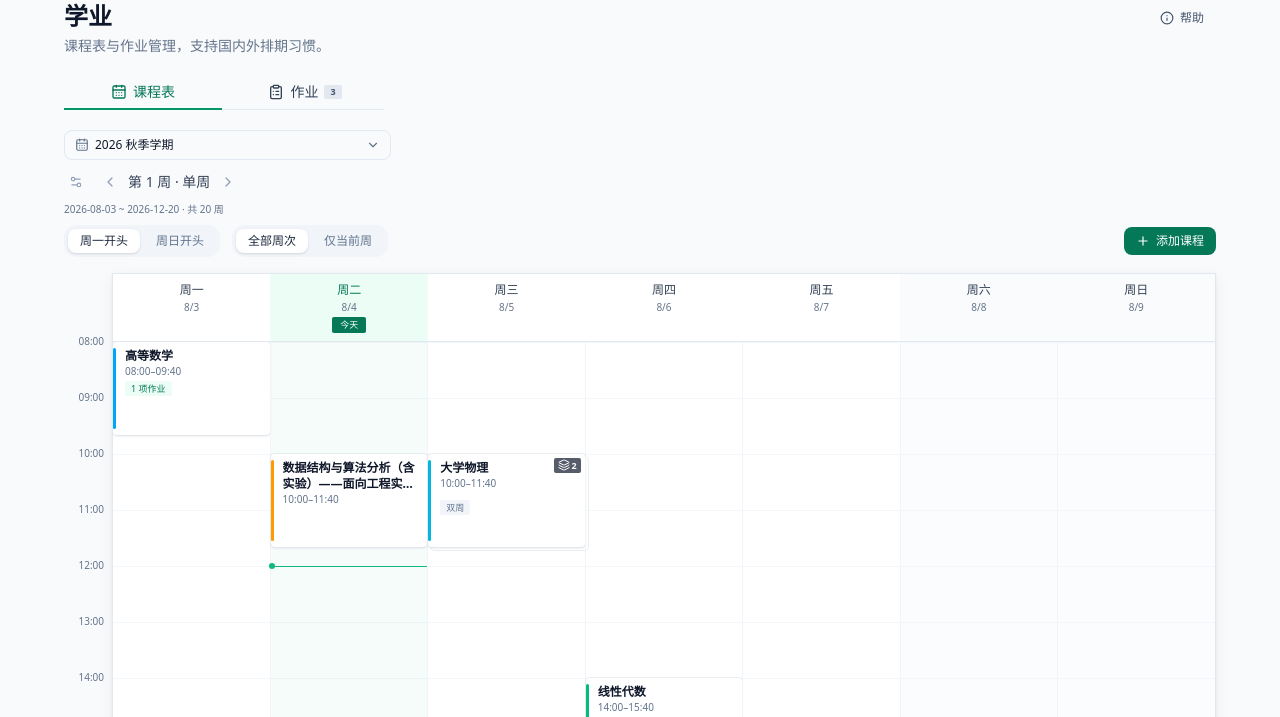
Test: StudyPage › 勾选完成需确认，确认后可归档
Click the button "作业 3": (305, 93) left=226, top=76, right=384, bottom=110
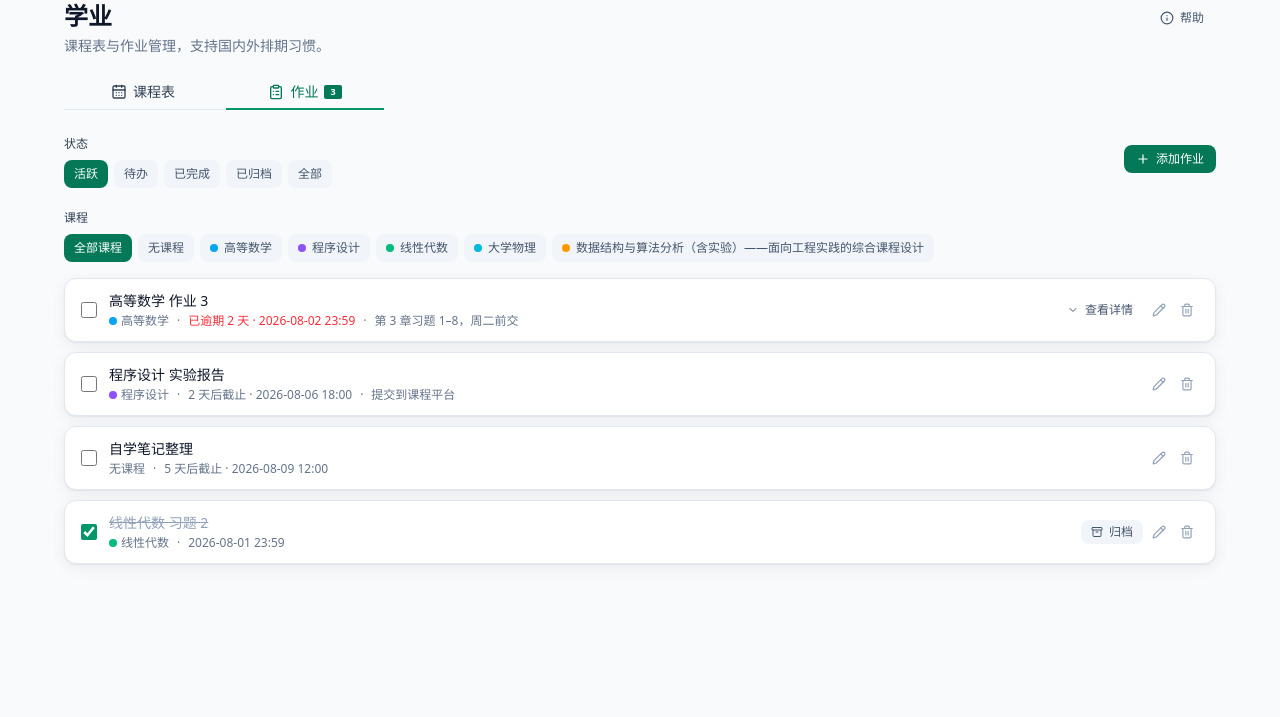
Click the checkbox named "程序设计 实验报告": (89, 384) left=81, top=376, right=97, bottom=392
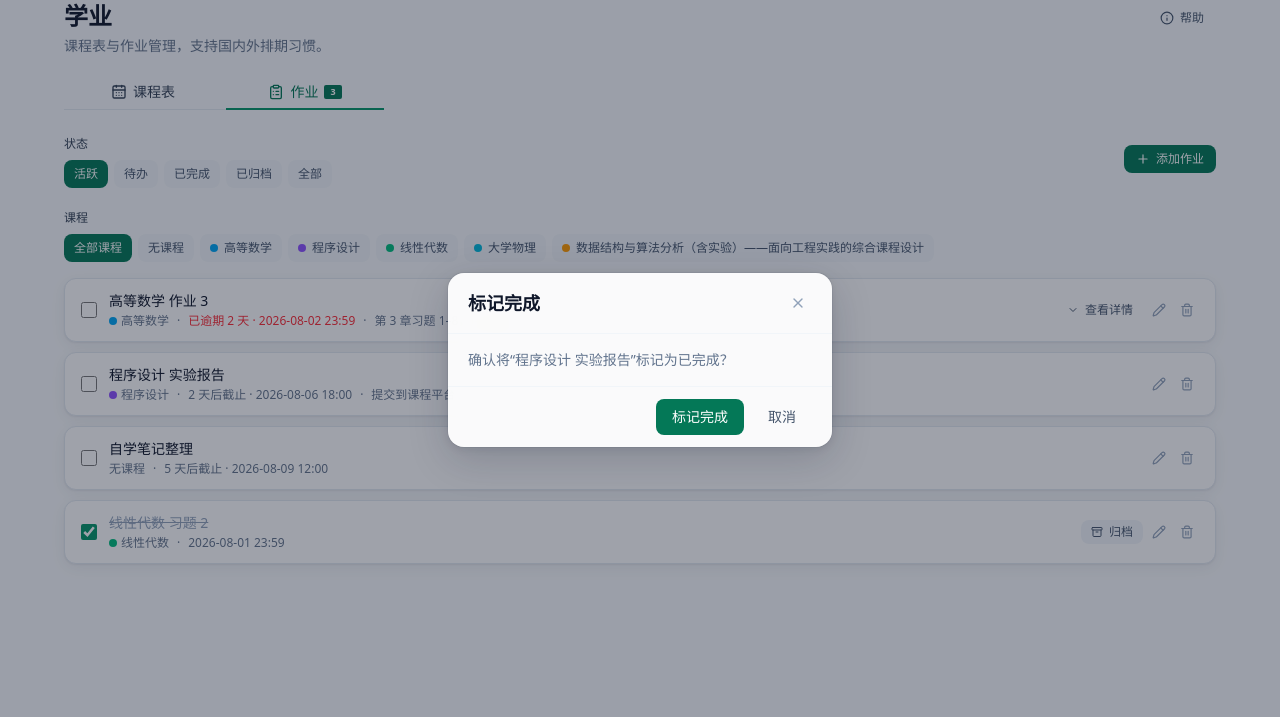
Check: the text "确认将“程序设计 实验报告”标记为已完成？" is shown, box left=468, top=350, right=734, bottom=369
Click the button "标记完成": (700, 417) left=656, top=399, right=744, bottom=435
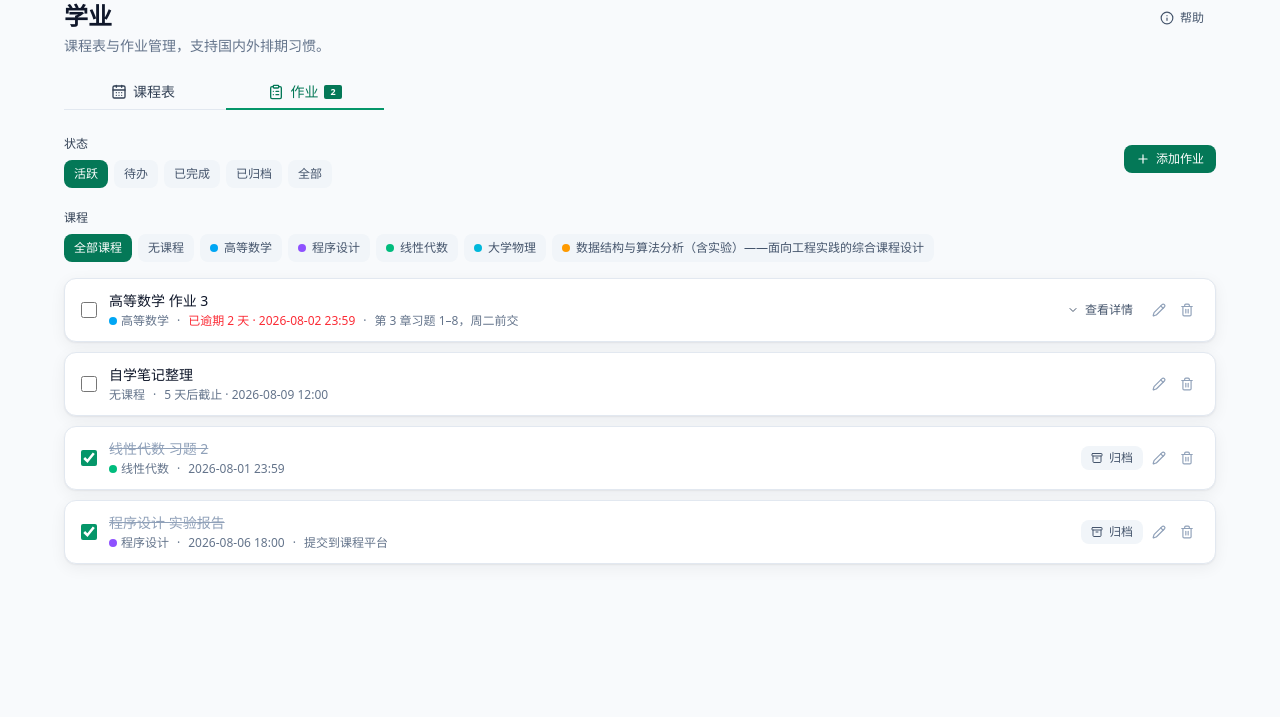
Check: the checkbox named "程序设计 实验报告" is checked, box left=81, top=524, right=97, bottom=540
Click the button "归档" in the row of "程序设计 实验报告": (1112, 532) left=1081, top=520, right=1143, bottom=544
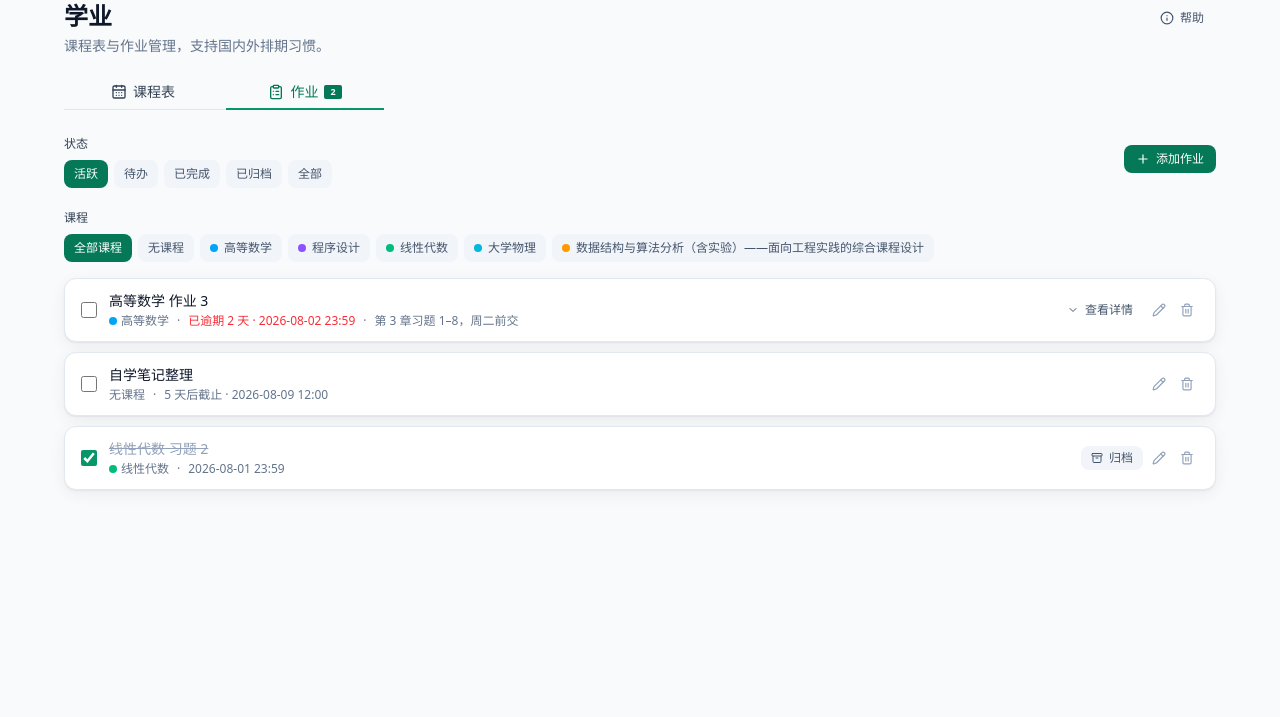
Check: the text "程序设计 实验报告" is gone
Click the button "已归档": (254, 174) left=226, top=160, right=282, bottom=188
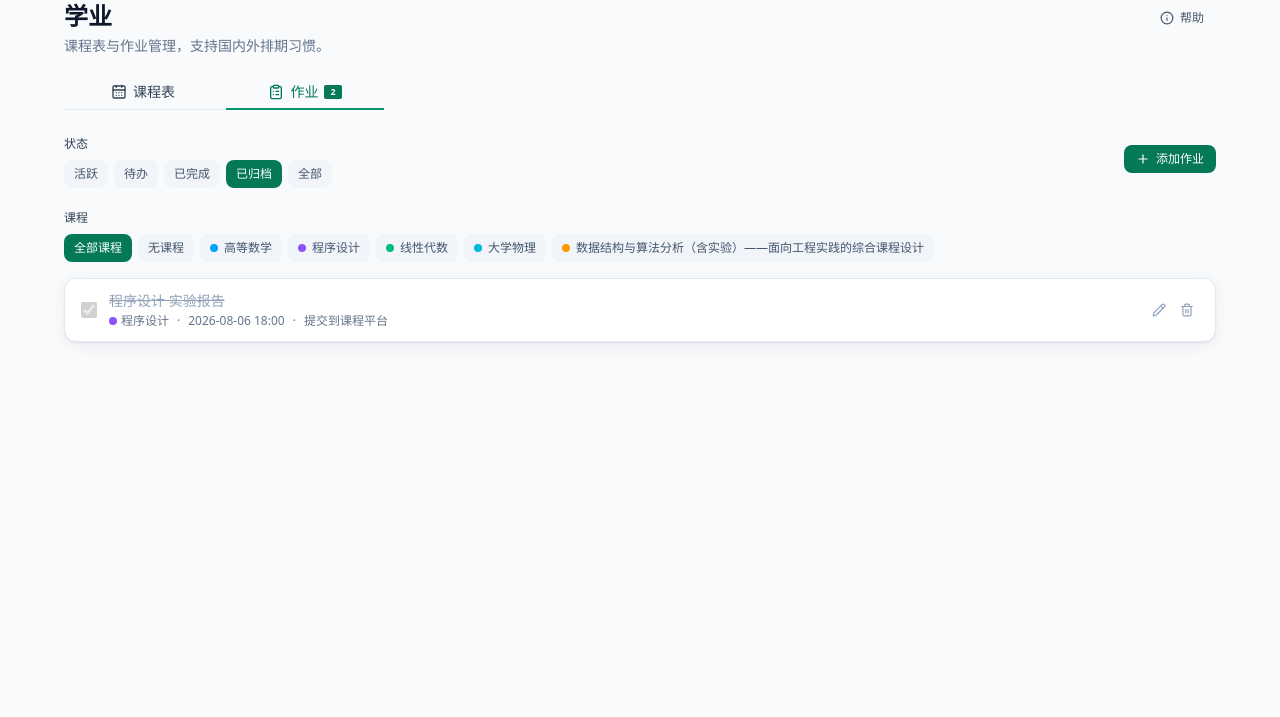
Check: the checkbox is disabled, box left=81, top=302, right=97, bottom=318
Check: the checkbox is checked, box left=81, top=302, right=97, bottom=318
